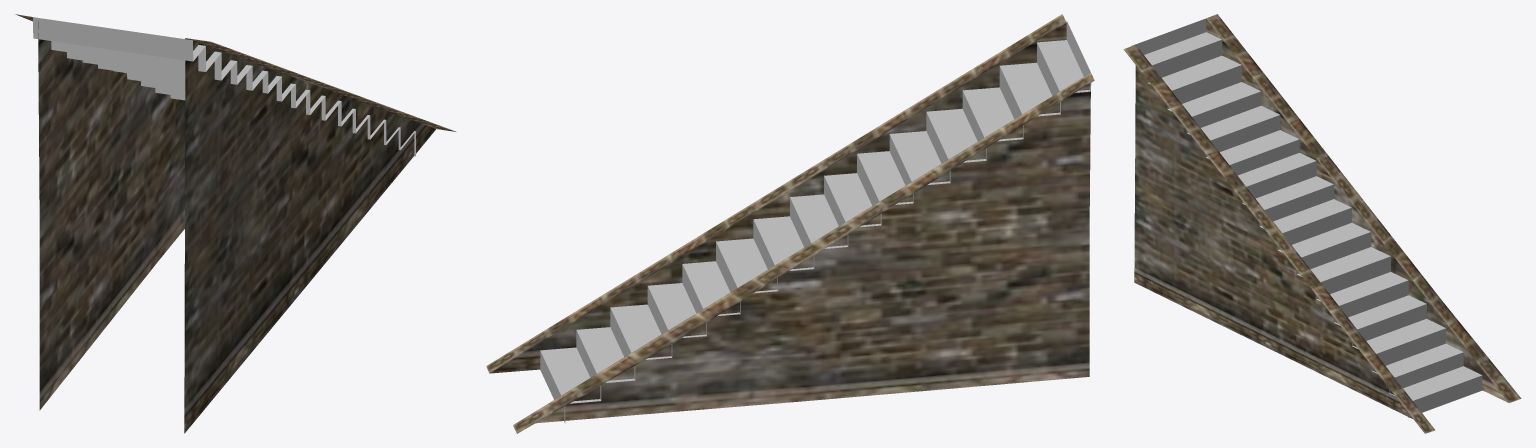
The model's file is tizi10.obj.
3 renders of one model, left to right at view 1: azimuth 30°, elevation 25°; view 2: azimuth 150°, elevation 25°; view 3: azimuth 270°, elevation 25°, orthographic. The views are drawn at different scales.
Visible parts, largest first — view 1: tizi10; view 2: tizi10; view 3: tizi10.
Part boxes in pixels (x1,y1,x2,y2): tizi10: (15, 14, 456, 433); tizi10: (486, 14, 1094, 433); tizi10: (1123, 14, 1521, 433).
Bounding box in the file's own units: 163 × 100 × 151.
